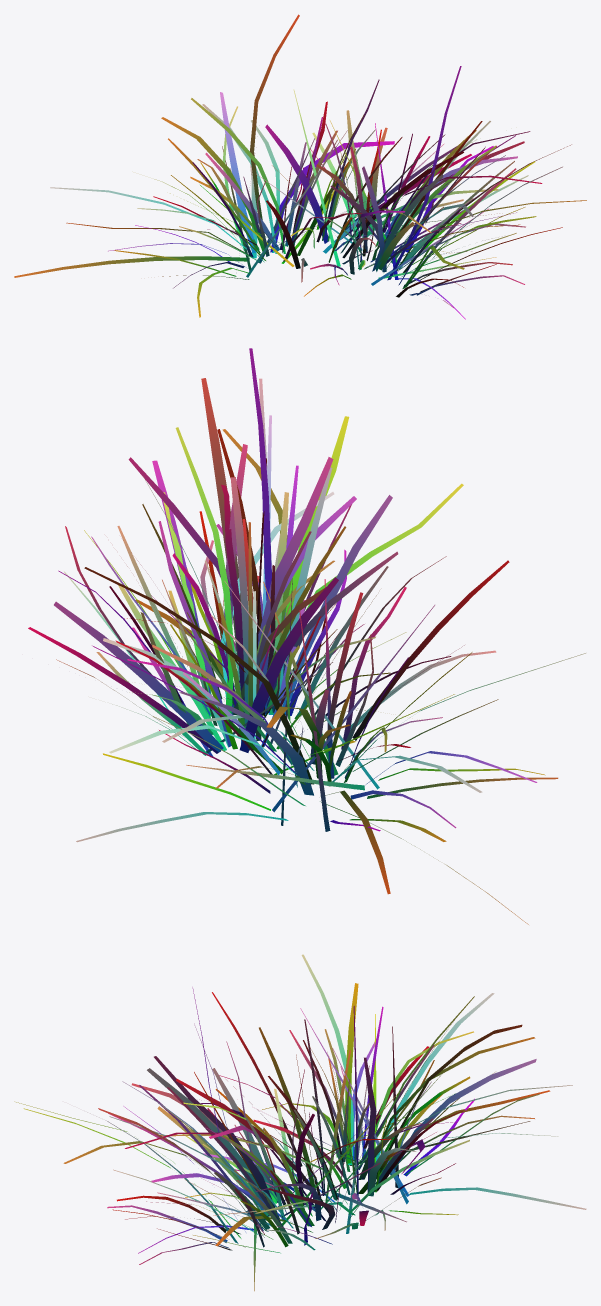
Rendered from Wild_Grass_vlkhcbxia_High_vlkhcbxia_VarF_LOD1.fbx.
3 renders of one model, top to bottom at view 1: azimuth 30°, elevation 25°; view 2: azimuth 150°, elevation 25°; view 3: azimuth 270°, elevation 25°, orthographic. The views are drawn at different scales.
Visible parts, largest first — view 1: _kx51_VarF_LOD2; view 2: _kx51_VarF_LOD2; view 3: _kx51_VarF_LOD2.
Boxes of the visible parts, <box> form: _kx51_VarF_LOD2: <box>14,14,586,319</box>; _kx51_VarF_LOD2: <box>28,348,585,924</box>; _kx51_VarF_LOD2: <box>14,954,586,1291</box>.
Bounding box in the file's own units: 28.92 × 15.66 × 28.78.
